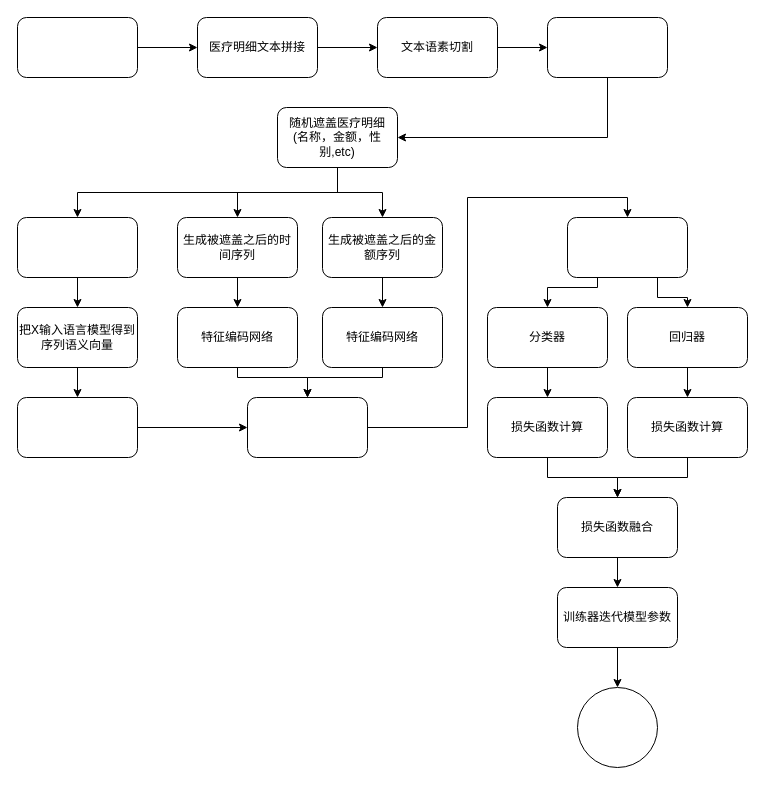
Some shapes in this 765 by 785 pixel diagram are drawn without their labels. The box of each missing label's shape, as (x1, y1, x2, y2) in pixels:
合并多模态特征向量: (246, 396, 368, 458)
多层级编码网络: (566, 216, 688, 278)
把语义向量指派到对应医疗明细: (16, 396, 138, 458)
文本语素指派到医疗明细: (546, 16, 668, 78)
最终模型: (576, 686, 658, 768)
生成被遮盖之后的语素序列X: (16, 216, 138, 278)
结构化临床记录数据加载: (16, 16, 138, 78)
